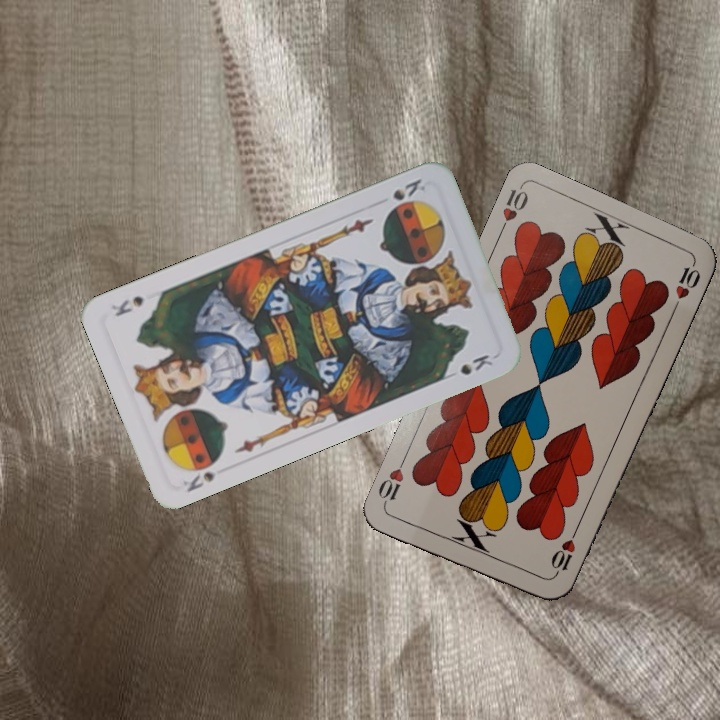H10: (494, 183, 531, 239), (547, 525, 580, 581)
SK: (178, 454, 223, 495), (388, 174, 429, 204)
